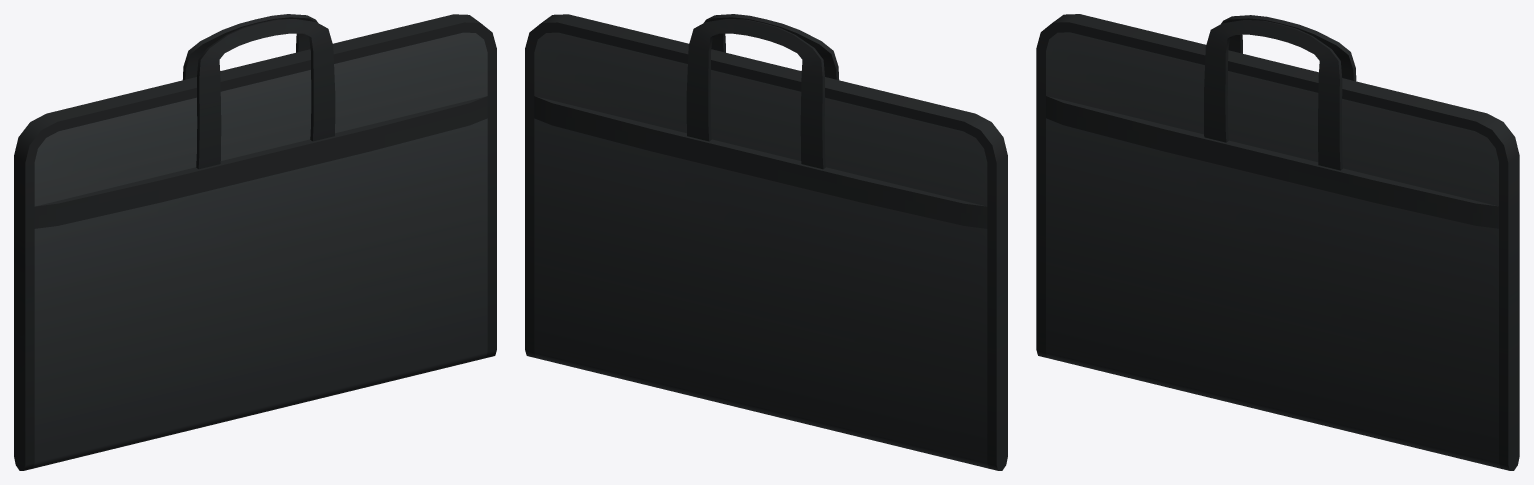
File: PlanFolder_01.fbx
3 views of the same model, side by side, from view 1: azimuth 30°, elevation 25°; view 2: azimuth 150°, elevation 25°; view 3: azimuth 330°, elevation 25° (orthographic).
Parts seen in each view (by area): view 1: PlanFolder_01; view 2: PlanFolder_01; view 3: PlanFolder_01.
Boxes of the visible parts, x1,y1,x2,y2 form: PlanFolder_01: [14, 14, 496, 470]; PlanFolder_01: [525, 14, 1007, 470]; PlanFolder_01: [1036, 14, 1519, 470].
Size of the model in its own units: 75.94 by 5.65 by 60.23.
